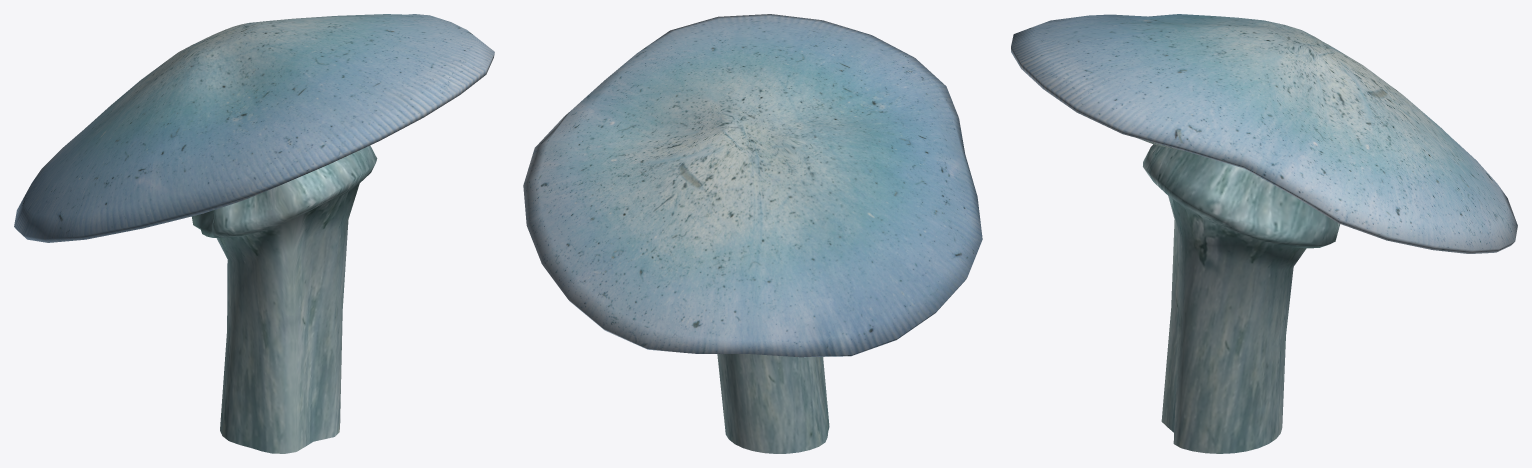
File: mushy2.FBX
The picture shows the model from 3 angles, left to right: view 1: azimuth 30°, elevation 25°; view 2: azimuth 150°, elevation 25°; view 3: azimuth 270°, elevation 25°; orthographic projection. The views are drawn at different scales.
Parts seen in each view (by area): view 1: mushy2_uv; view 2: mushy2_uv; view 3: mushy2_uv.
Boxes of the visible parts, <box> form: mushy2_uv: <box>14,14,494,453</box>; mushy2_uv: <box>523,14,982,453</box>; mushy2_uv: <box>1011,14,1517,453</box>.
Size of the model in its own units: 96.75 by 83.22 by 94.07.
